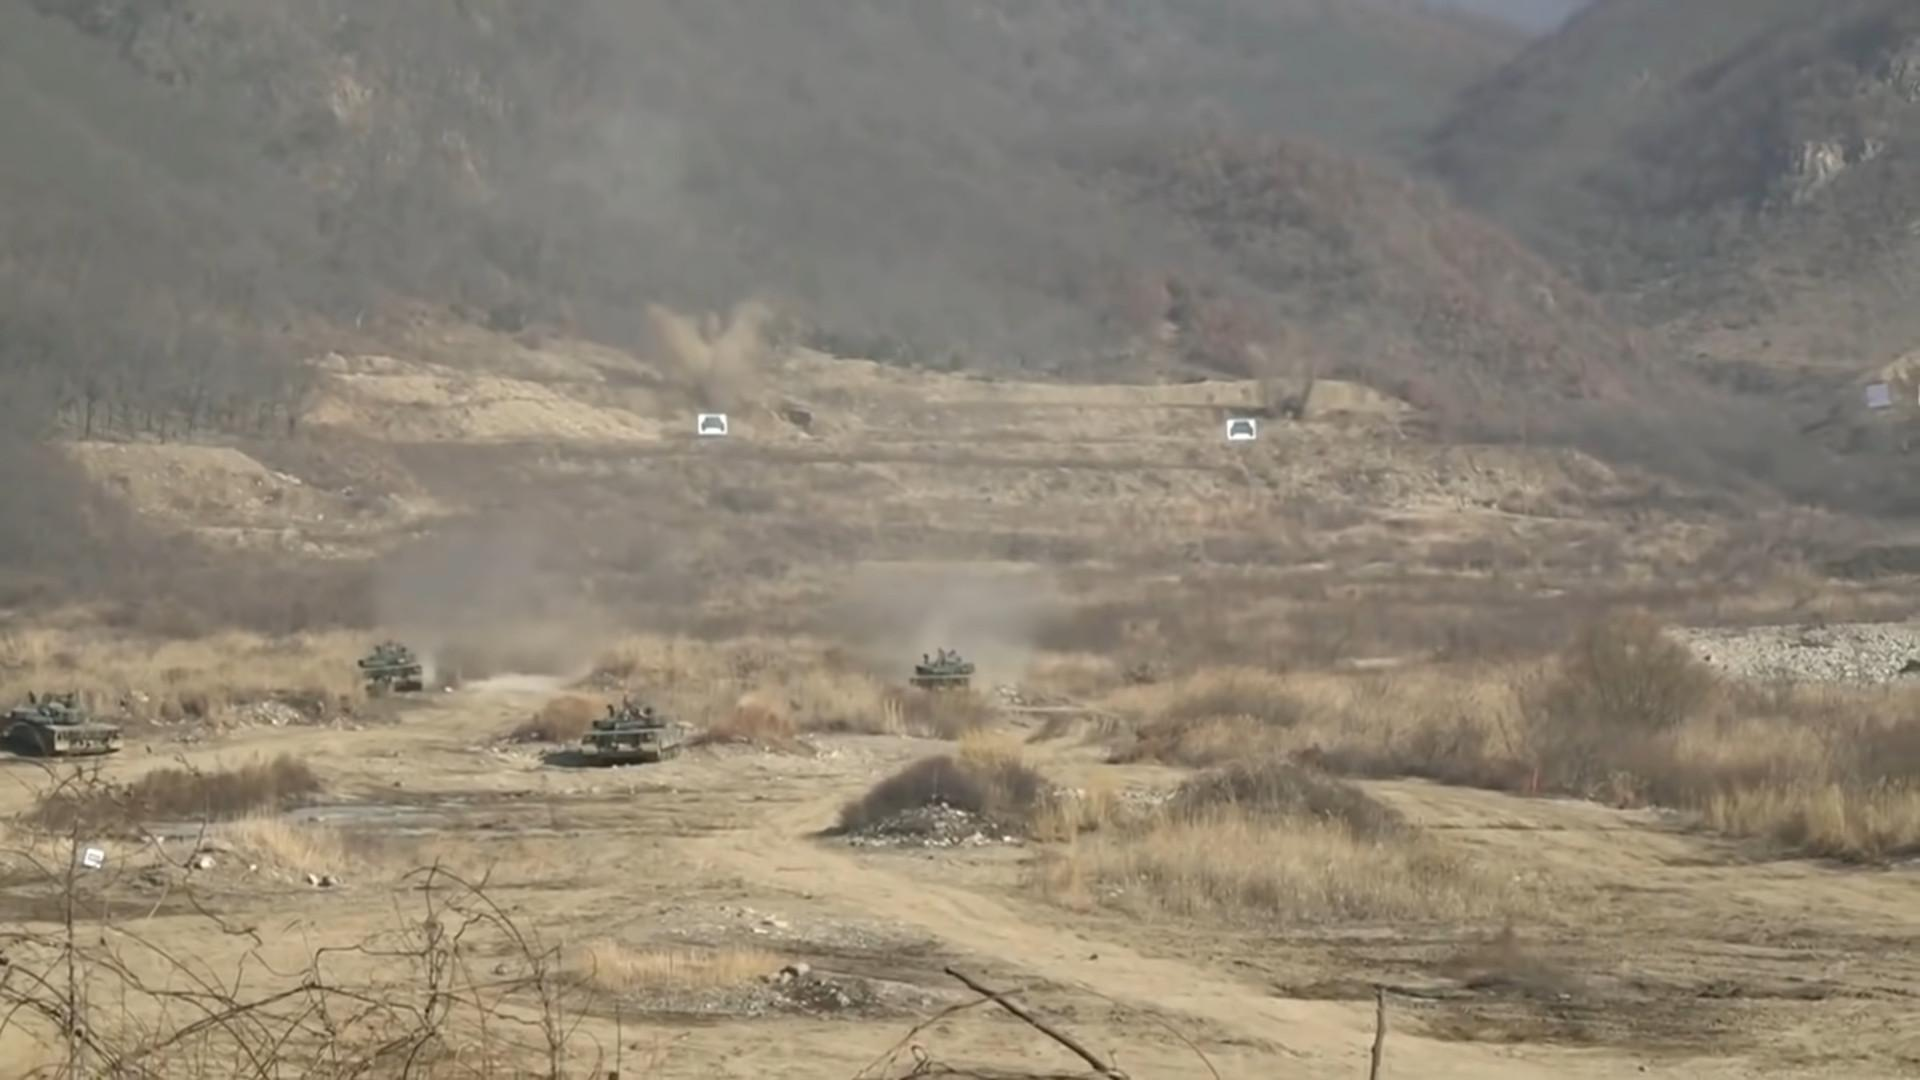tank: (0, 690, 127, 756), (576, 695, 686, 765), (359, 638, 422, 695), (910, 647, 975, 691)
